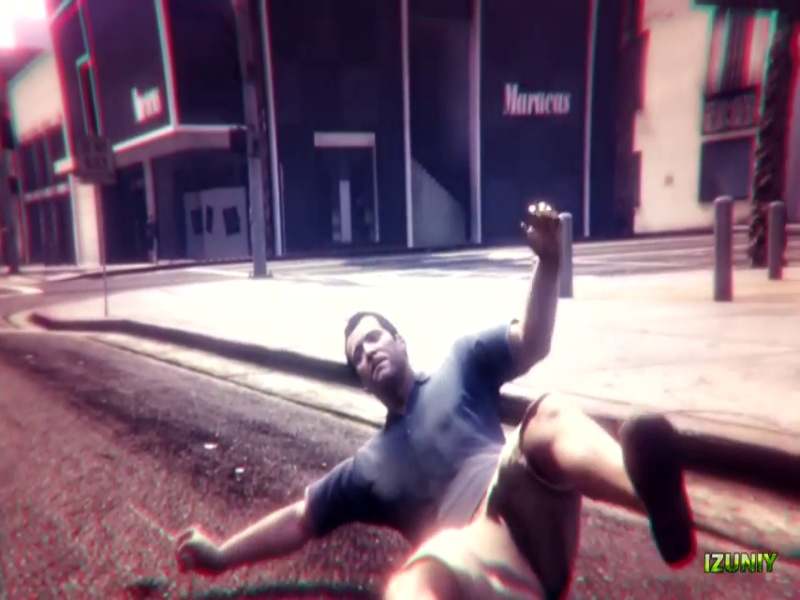human: (171, 200, 713, 592)
